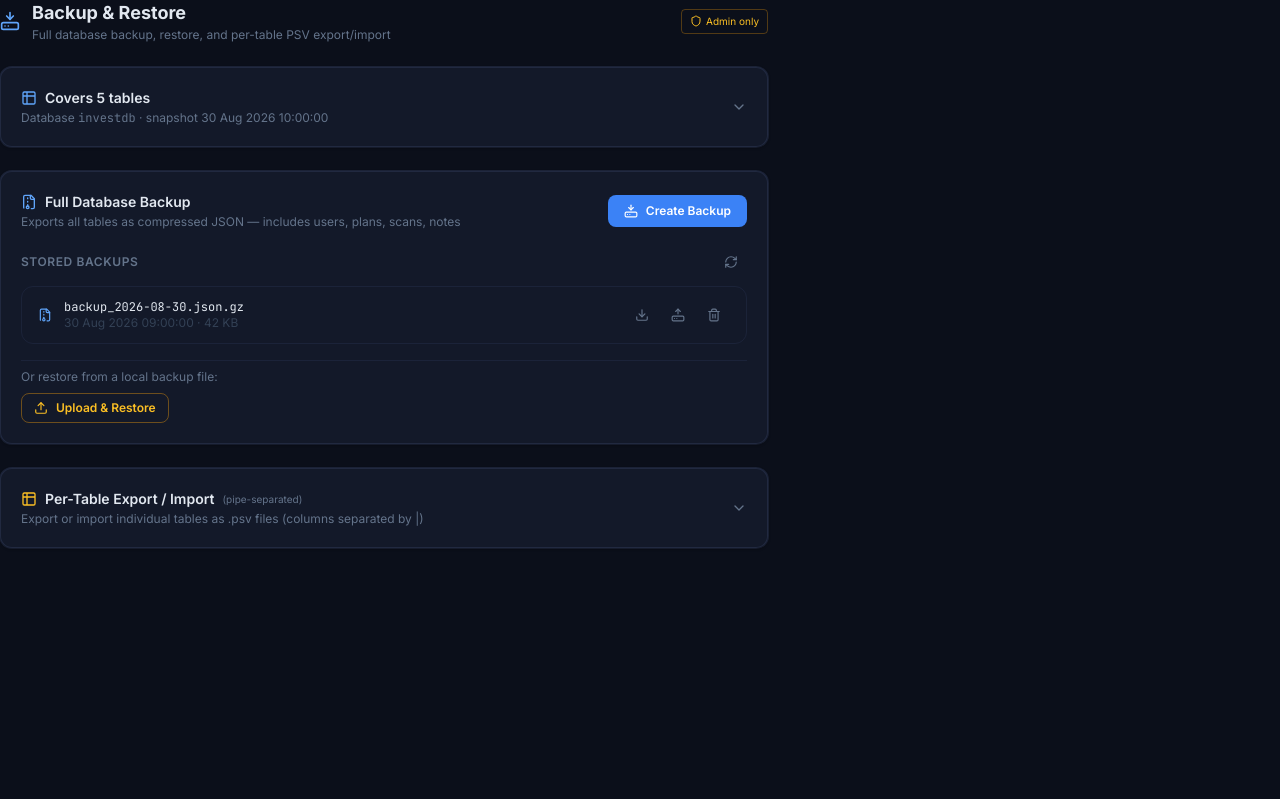
Scenario: BackupPage — PSV table selector › excludes schema-version tables (alembic_version / ft_alembic_version) from the PSV selector, but the coverage card still lists them
# Coverage card shows the FULL list, alembic rows included (with their note).
Click the button "Covers 5 tables" at (71, 98), box [21,88,747,126]
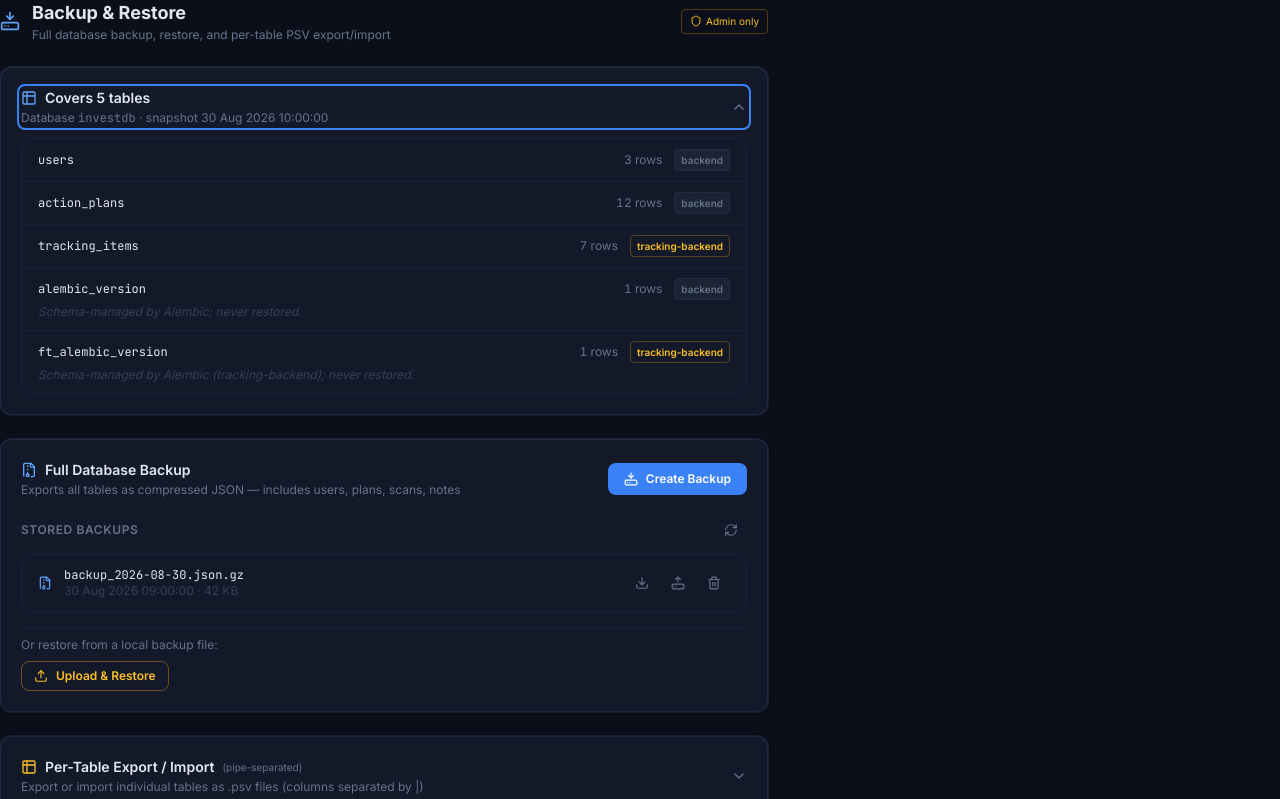
Now the text "alembic_version" is shown, box [38,281,146,297]
Now the text "ft_alembic_version" is shown, box [38,344,168,360]
Now the text "Schema-managed by Alembic (tracking-backend); never restored." is shown, box [38,367,414,382]
Click the button "Per-Table Export / Import" at (384, 776), box [21,757,747,795]
(page scrolled)
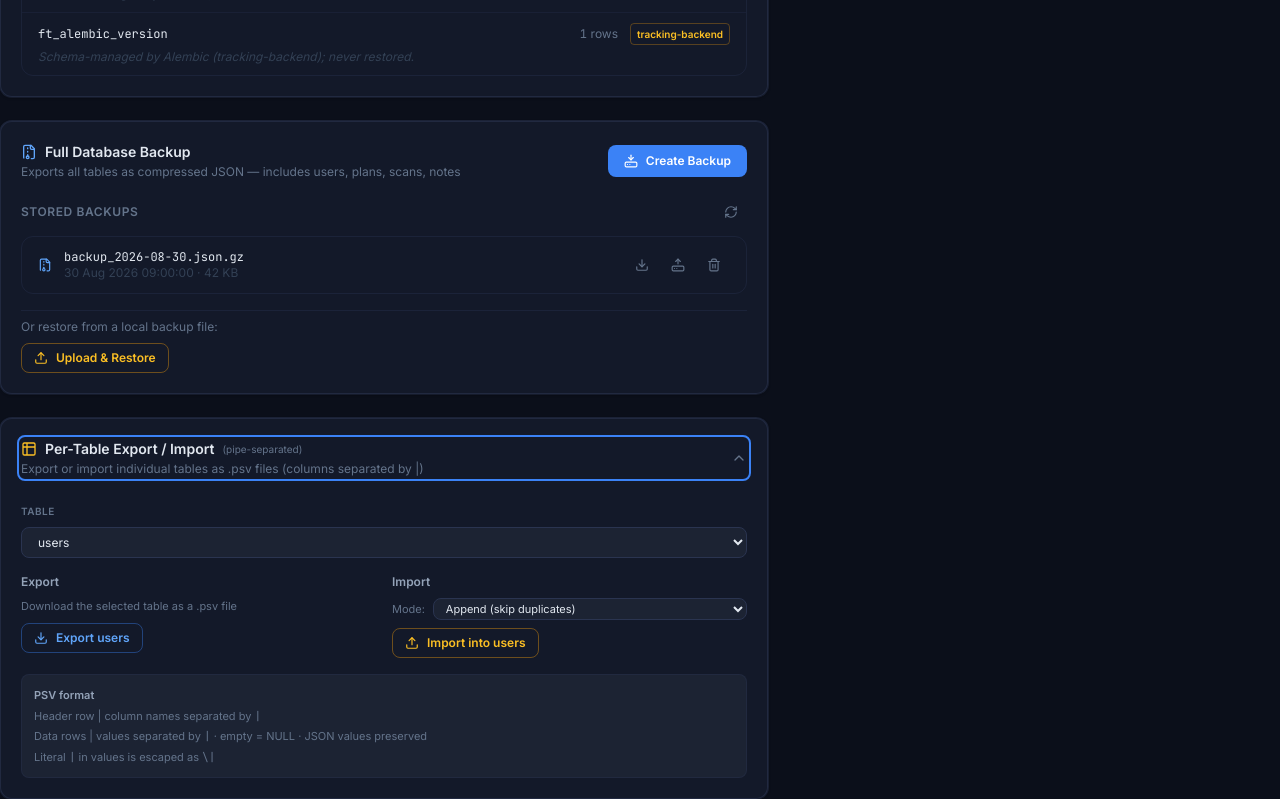
Now the dropdown labelled "Table" shows "users", box [21,527,747,558]
